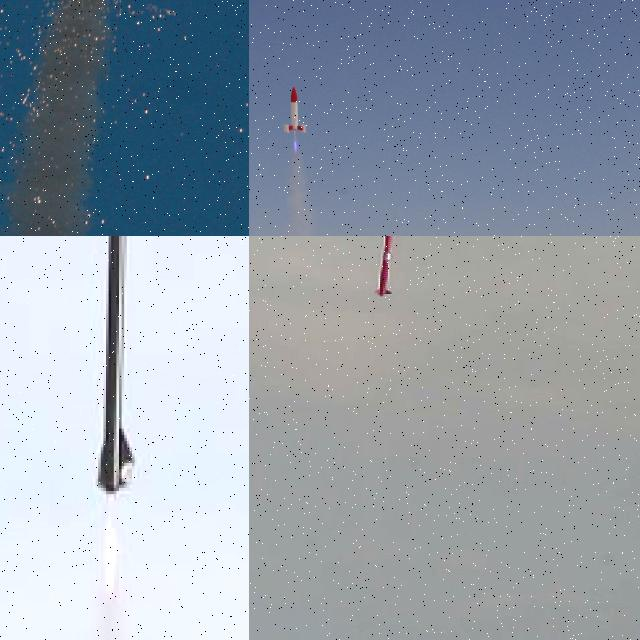Rocket: (92, 236, 140, 505), (374, 236, 397, 297), (284, 86, 306, 133)
